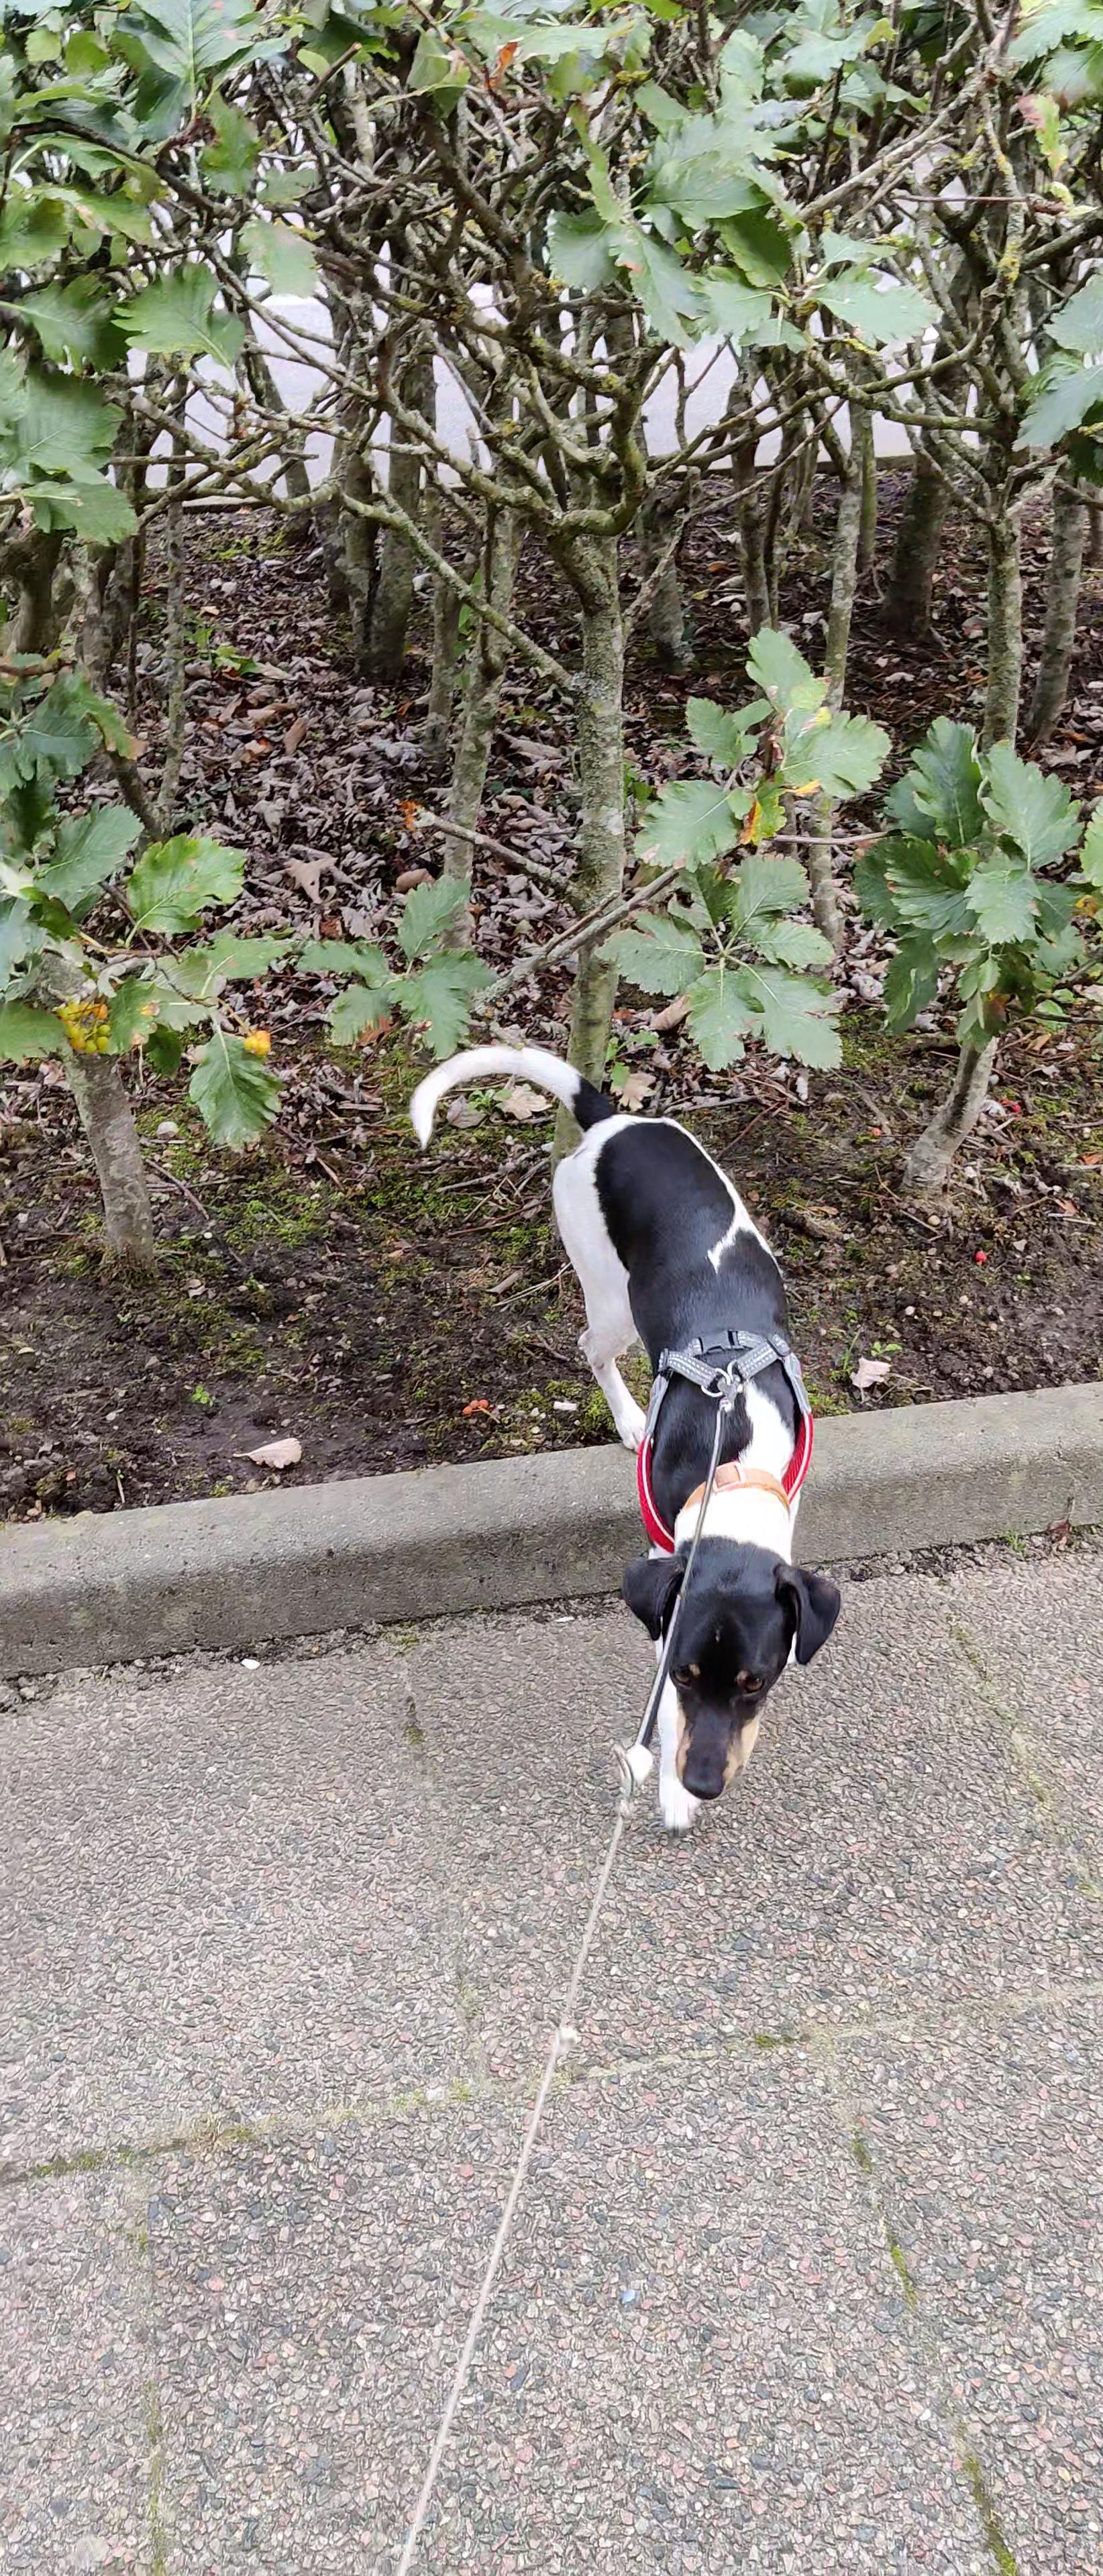Dog: (398, 1038, 847, 1832)
